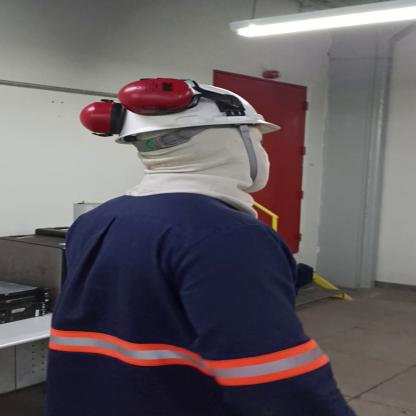Balaclava: (112, 129, 278, 219)
Capacete: (72, 74, 290, 141)
